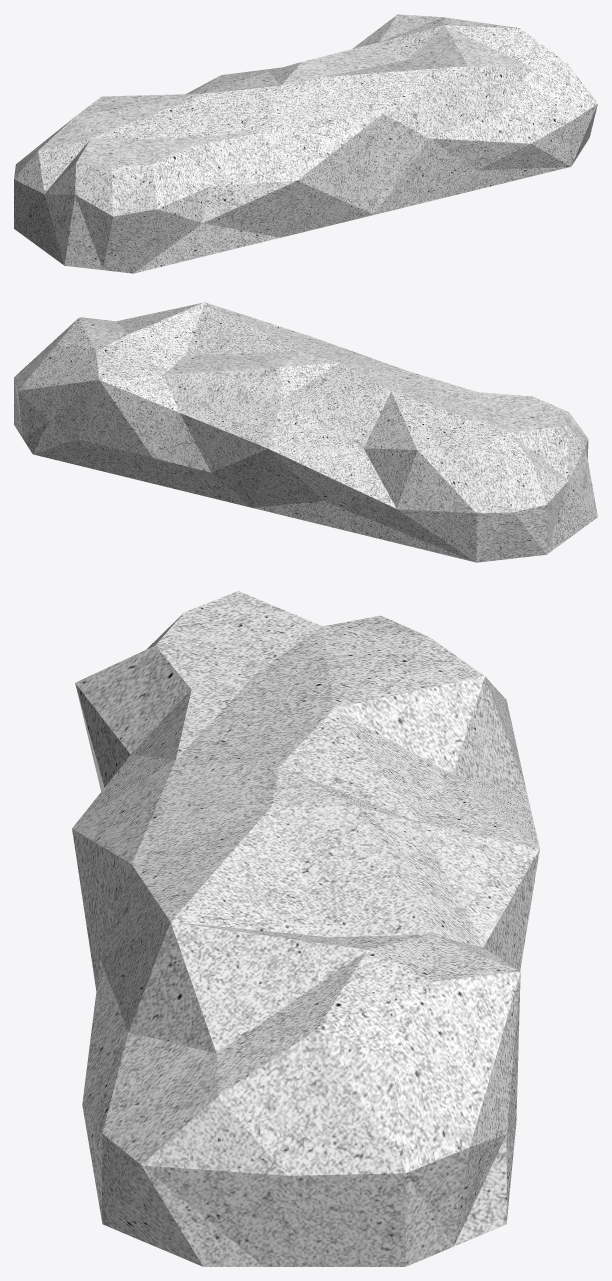
File: rock_3_hor.fbx
The picture shows the model from 3 angles, top to bottom: view 1: azimuth 30°, elevation 25°; view 2: azimuth 150°, elevation 25°; view 3: azimuth 270°, elevation 25°; orthographic projection. The views are drawn at different scales.
Visible parts, largest first — view 1: Mazee.023; view 2: Mazee.023; view 3: Mazee.023.
Boxes of the visible parts, x1,y1,x2,y2 form: Mazee.023: (14,14,597,273); Mazee.023: (14,302,597,562); Mazee.023: (72,591,539,1266).
Bounding box in the file's own units: 300 × 59.68 × 116.
